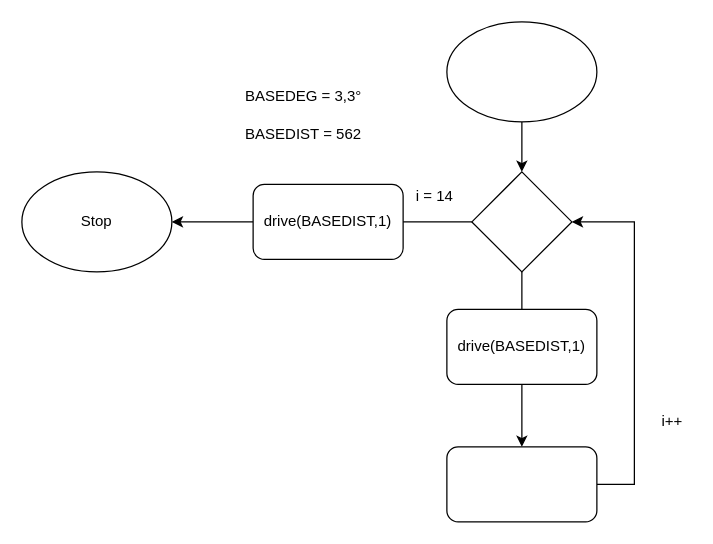
The diagram is 713 pixels wide and 544 high, and some of its shapes have lost their labels. The shapes that lost their labels are listed below. From the top down, each one's centre as x and y in pixels, then its label:
At point 521,71: "Start".
At point 521,484: "turn(BASEDIST,+-1)".
